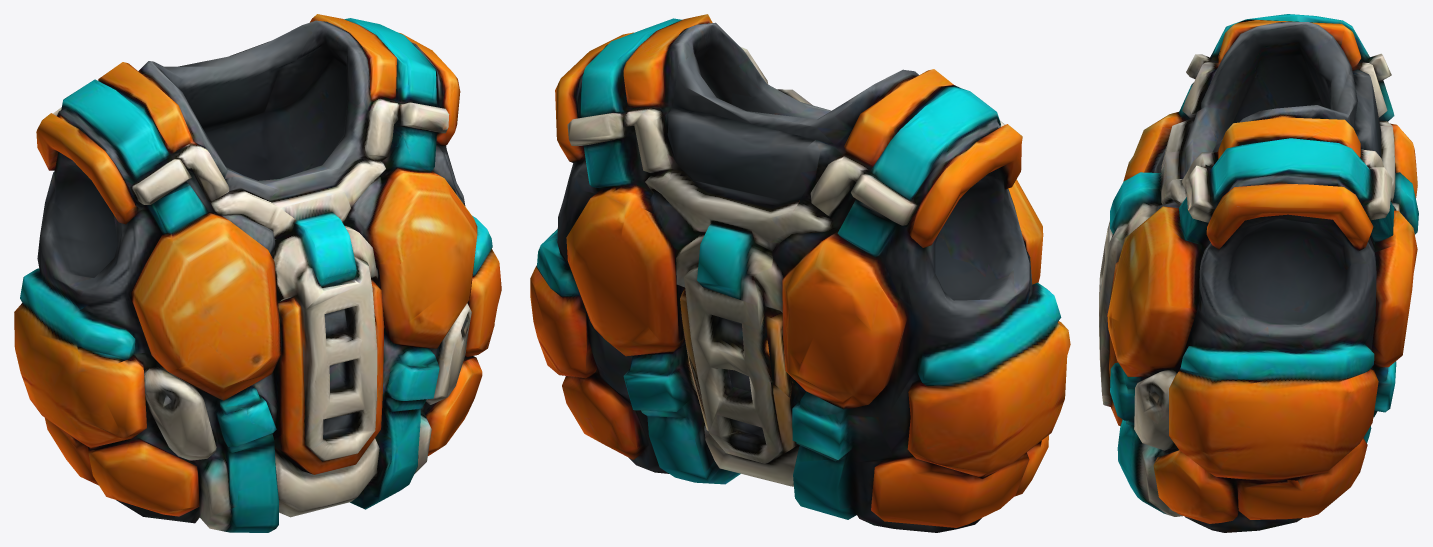
The model's file is GE04_bumper_suit.glb.
The picture shows the model from 3 angles, left to right: view 1: azimuth 30°, elevation 25°; view 2: azimuth 150°, elevation 25°; view 3: azimuth 270°, elevation 25°; orthographic projection. The views are drawn at different scales.
Visible parts, largest first — view 1: tripo_node_a425fd65-1588-4e36-9f9a-bb26bdd6cbdd; view 2: tripo_node_a425fd65-1588-4e36-9f9a-bb26bdd6cbdd; view 3: tripo_node_a425fd65-1588-4e36-9f9a-bb26bdd6cbdd.
Part boxes in pixels (bbox=[...]): tripo_node_a425fd65-1588-4e36-9f9a-bb26bdd6cbdd: bbox=[14, 14, 501, 532]; tripo_node_a425fd65-1588-4e36-9f9a-bb26bdd6cbdd: bbox=[530, 14, 1070, 532]; tripo_node_a425fd65-1588-4e36-9f9a-bb26bdd6cbdd: bbox=[1099, 14, 1418, 532].
Size of the model in its own units: 0.997 by 0.9242 by 0.6444.
1 material, 1 textured.
